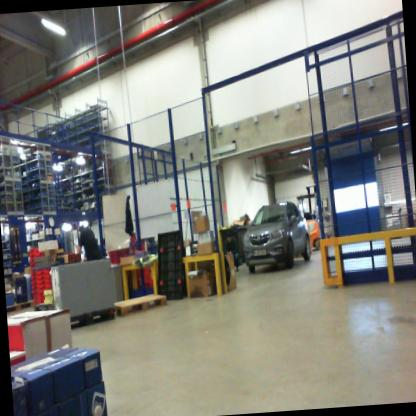forklift: (288, 175, 330, 254)
pallet: (111, 286, 170, 321), (7, 298, 37, 324)
small_load_carrier: (30, 245, 53, 273), (30, 289, 42, 304), (30, 261, 42, 271), (40, 272, 54, 279), (41, 283, 55, 290), (40, 277, 52, 285), (30, 270, 43, 277), (28, 253, 43, 258), (31, 281, 42, 287), (29, 257, 42, 262), (31, 276, 43, 281), (31, 287, 43, 290)
